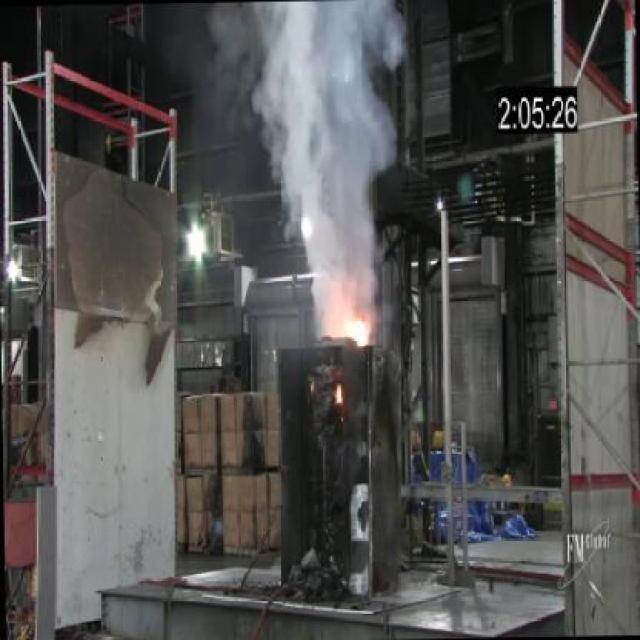fire: (250, 0, 408, 302)
smoke: (330, 312, 376, 352)
